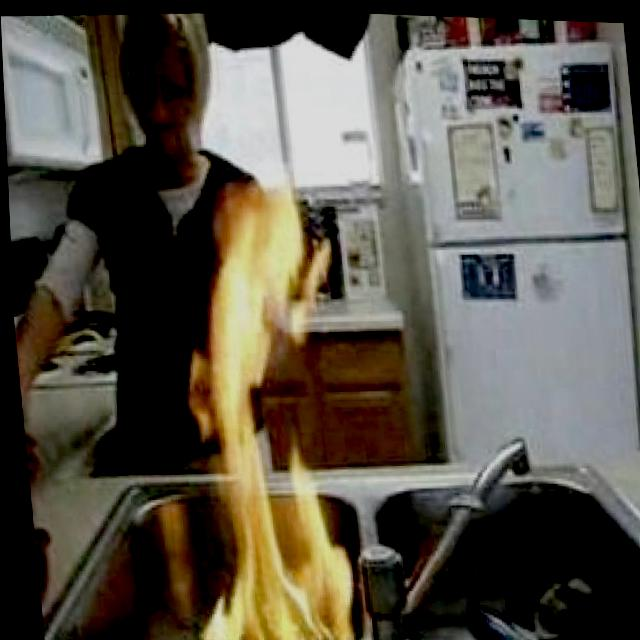Fire: (161, 176, 354, 640)
